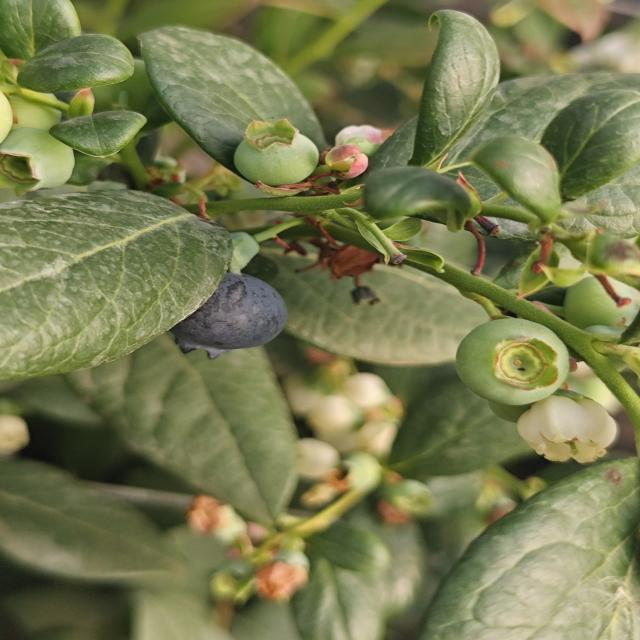ripe: (167, 270, 291, 361)
